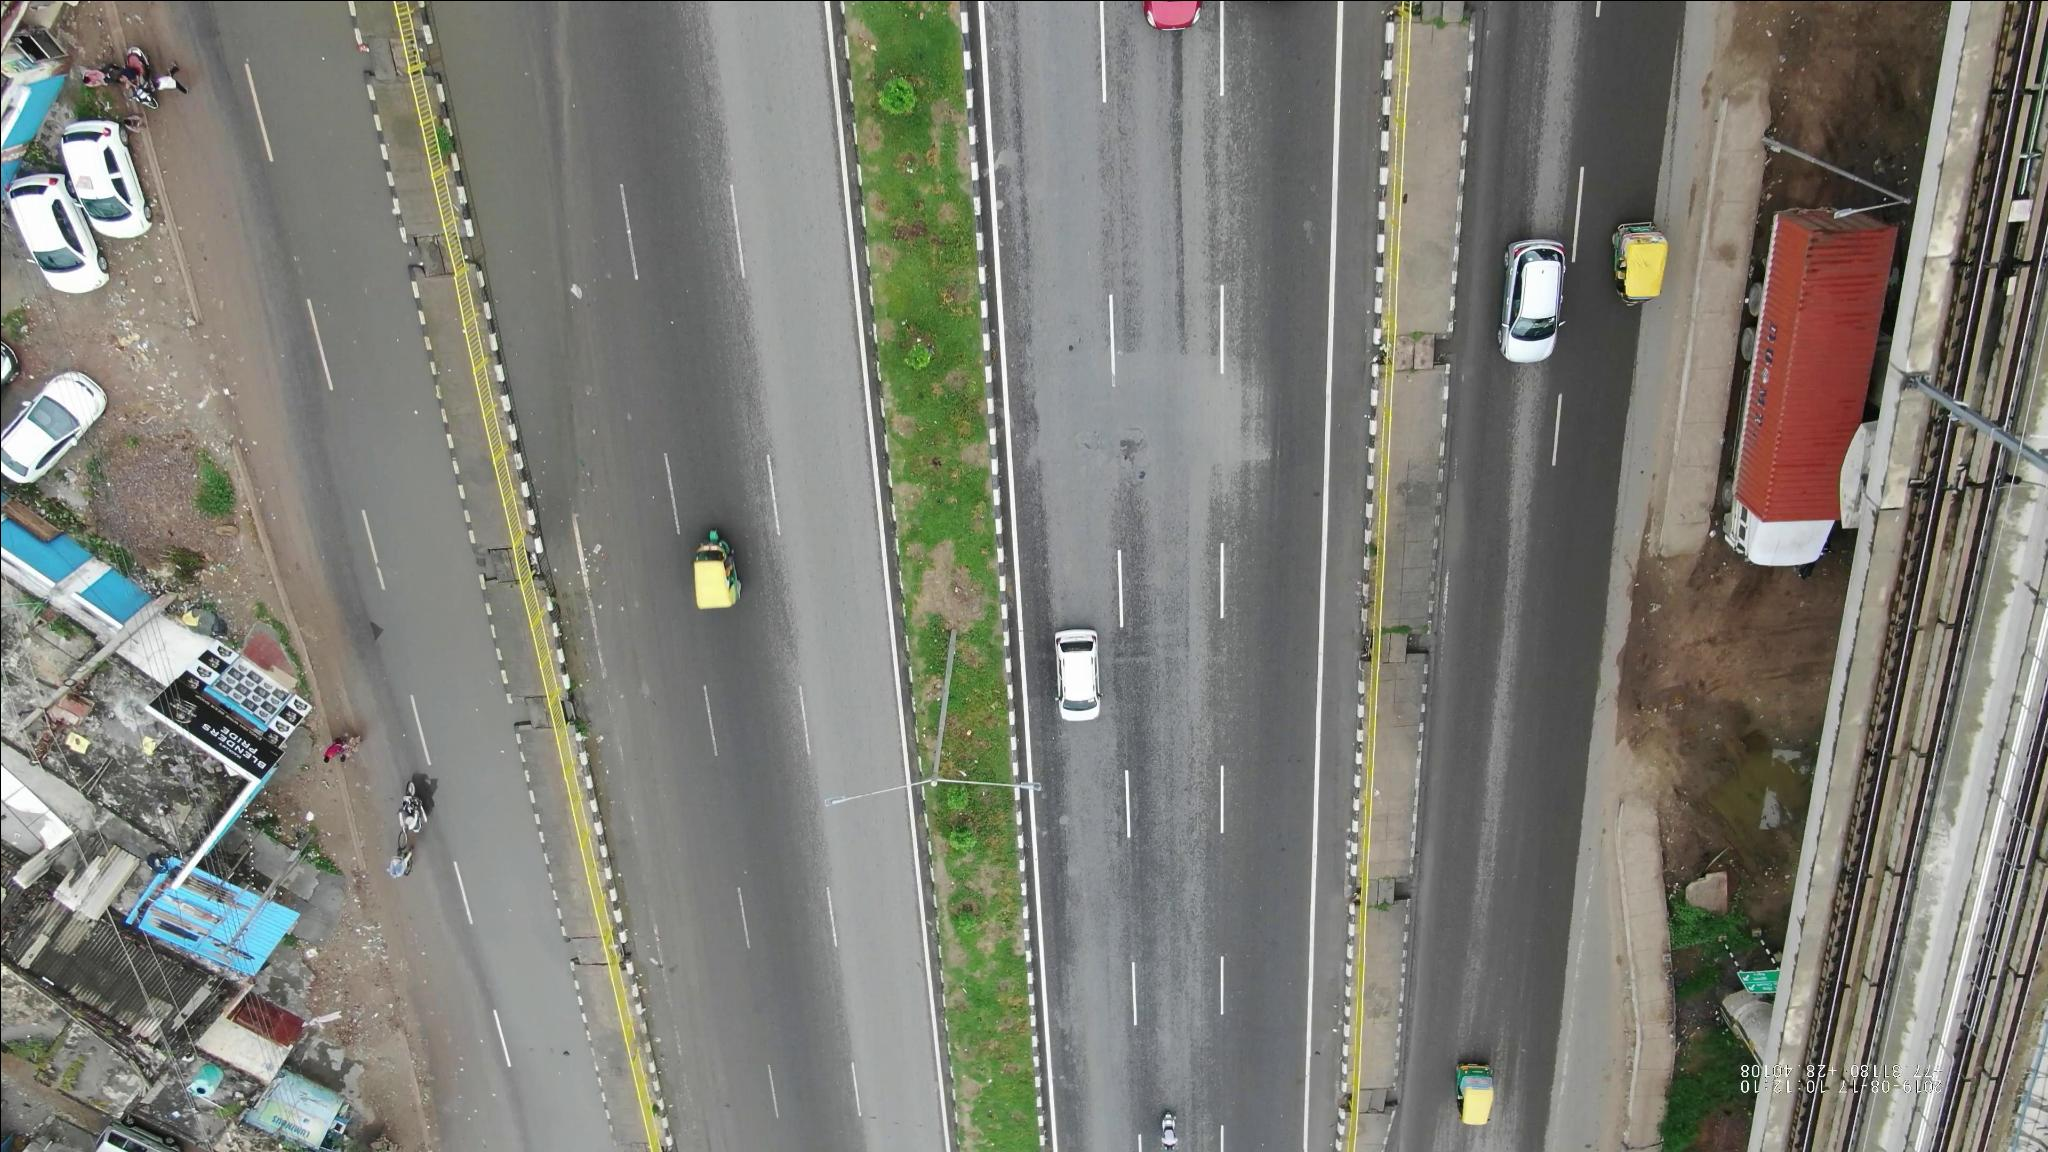Waterlogging: (318, 383, 505, 702), (442, 42, 588, 450), (436, 799, 582, 1056)
